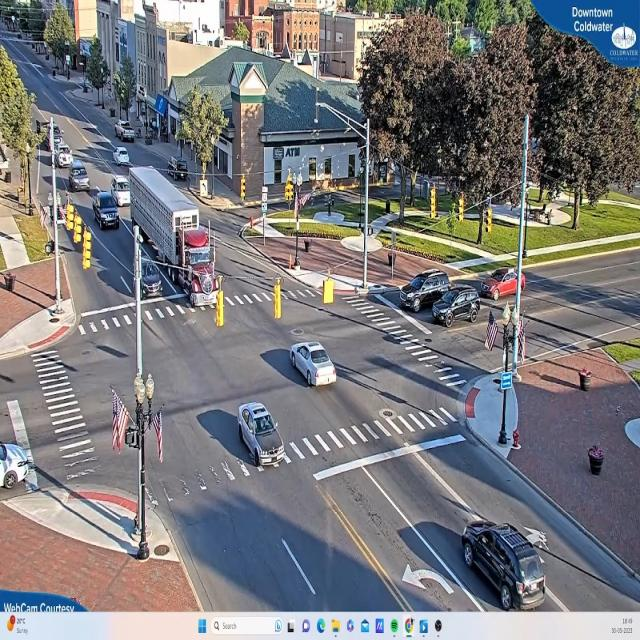car: (462, 520, 549, 608), (237, 402, 287, 466), (290, 342, 339, 388), (401, 272, 455, 313), (432, 288, 480, 327), (0, 444, 39, 490), (482, 270, 528, 303), (134, 251, 161, 298), (94, 192, 120, 231), (117, 121, 137, 144), (115, 149, 133, 167)
truck: (167, 205, 220, 310)
